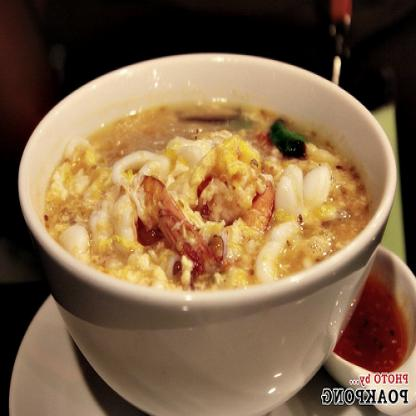Suki: (27, 79, 377, 325)
